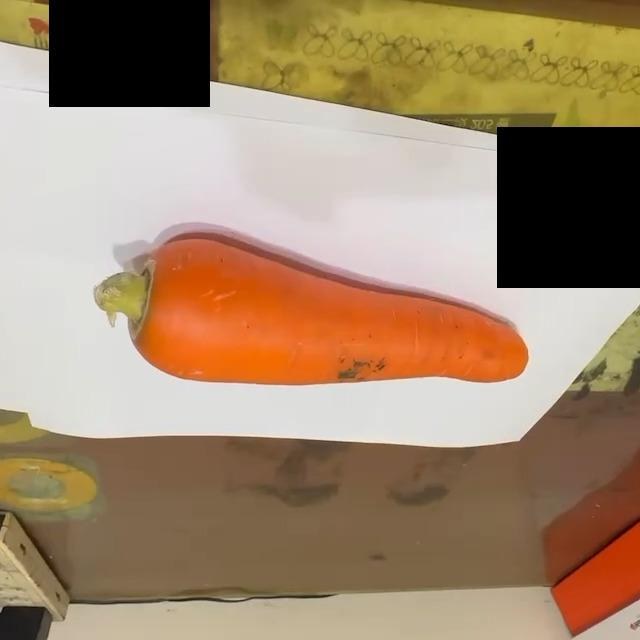carrot: (99, 237, 538, 389)
